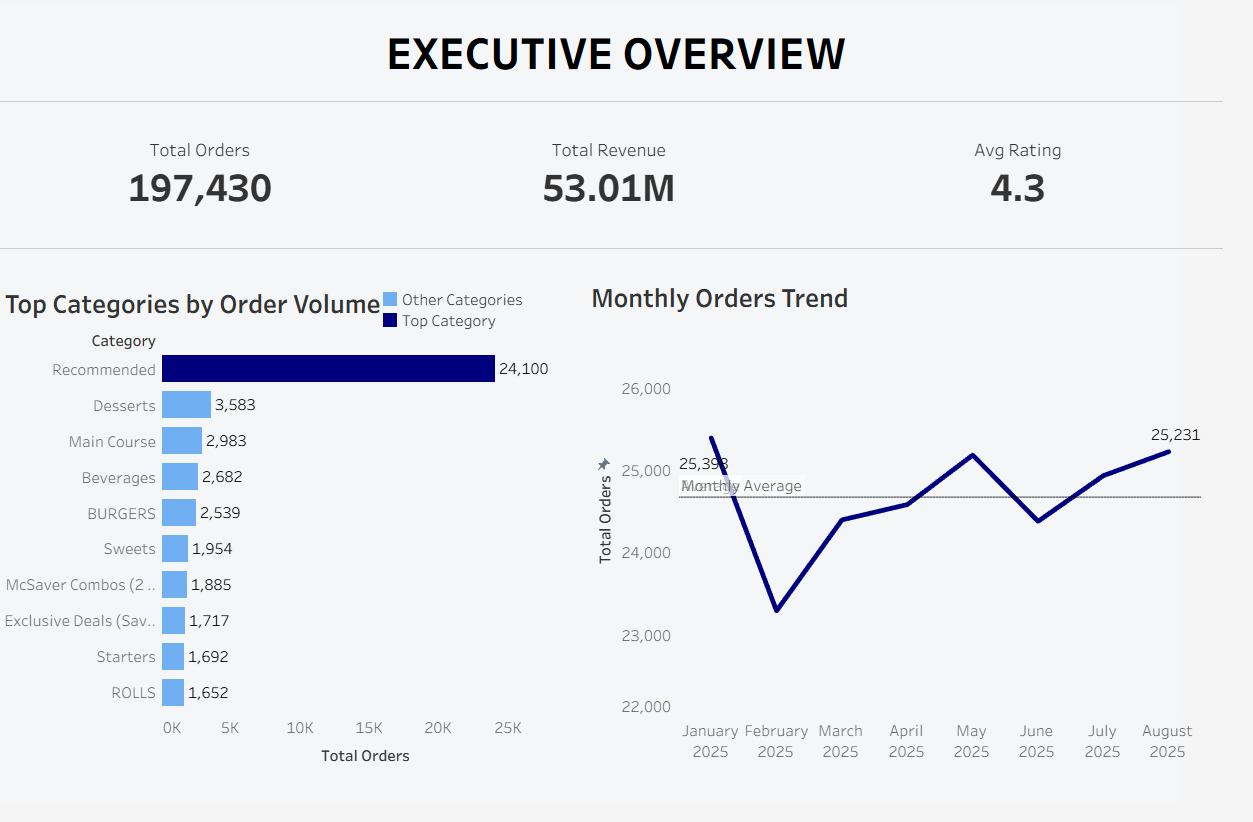

This screenshot's page, from the dashboard's own definition file:
{"tool":"tableau","page":{"name":"EXECUTIVE OVERVIEW","canvas":[1200,800],"ordinal":1},"visuals":[{"type":"text","box":[226,19,720,51]},{"type":"worksheet","title":"Monthly Orders Trend","mark":"Line","rows":["Calculation_0994535951753216"],"cols":["Order Date"],"box":[613,280,591,512]},{"type":"legend","title":"Top Categories by Order Volume","param":"[federated.0wbnxqv03bbuuo1epee1f0hm8t7l].[none:Calculation_0994535983480845:nk]","box":[402,286,148,64]}]}

Visuals, with their boxes in screenshot pixels (x1, y1, x2, y2), scaled from the page's 1200x800 canvas onto the 1253x822 screenshot:
text: crop(236, 20, 988, 72)
"Monthly Orders Trend" worksheet (Line marks): crop(640, 288, 1252, 814)
"Top Categories by Order Volume" legend: crop(420, 294, 574, 360)
